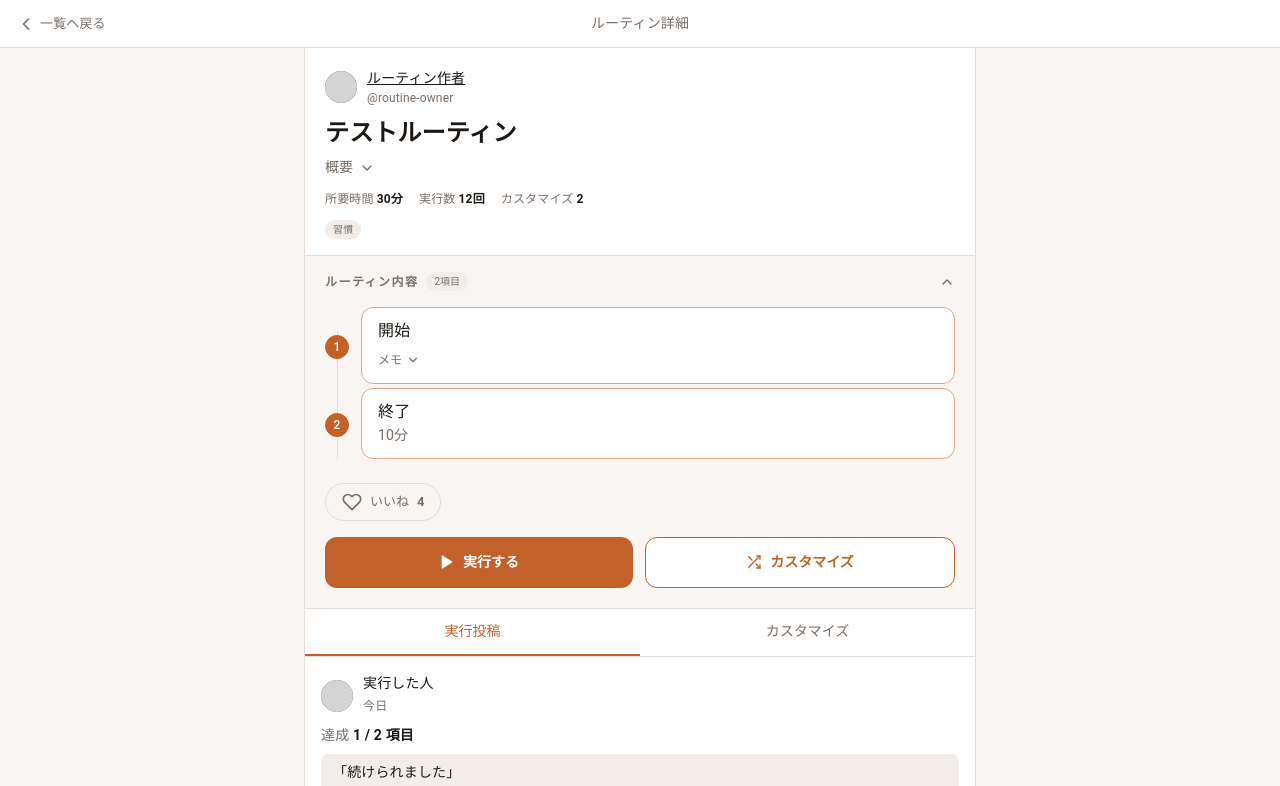
Scenario: RoutineDetailPage › 概要・ステップの開閉を提供する
Expected: the heading "テストルーティン" is shown, [325,119,517,147]
Expected: the text "ルーティンの詳しい説明です。" is not shown
Click the button "概要" at {"x": 350, "y": 168}, box [325,157,375,178]
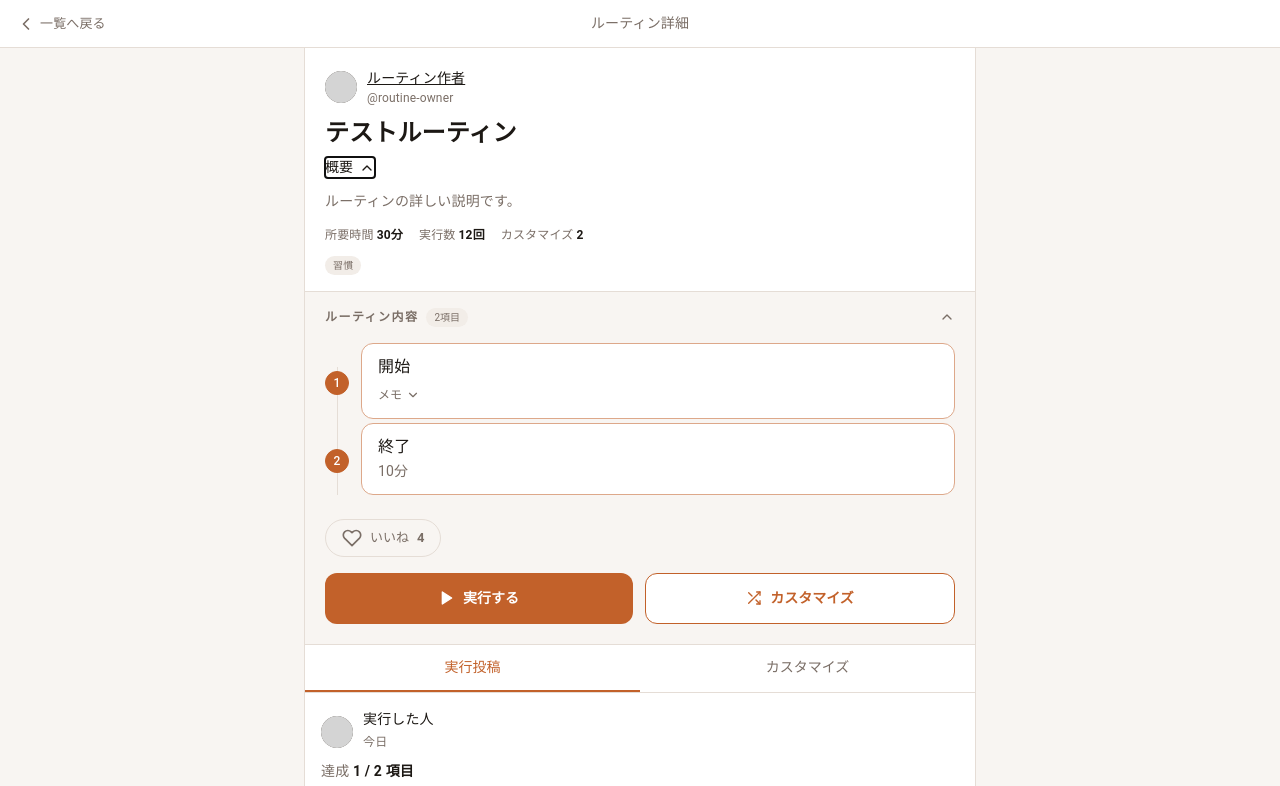
Now the text "ルーティンの詳しい説明です。" is shown, box [325,193,521,209]
Click the button "ルーティン内容 2項目" at {"x": 372, "y": 317}, box [305,292,975,343]
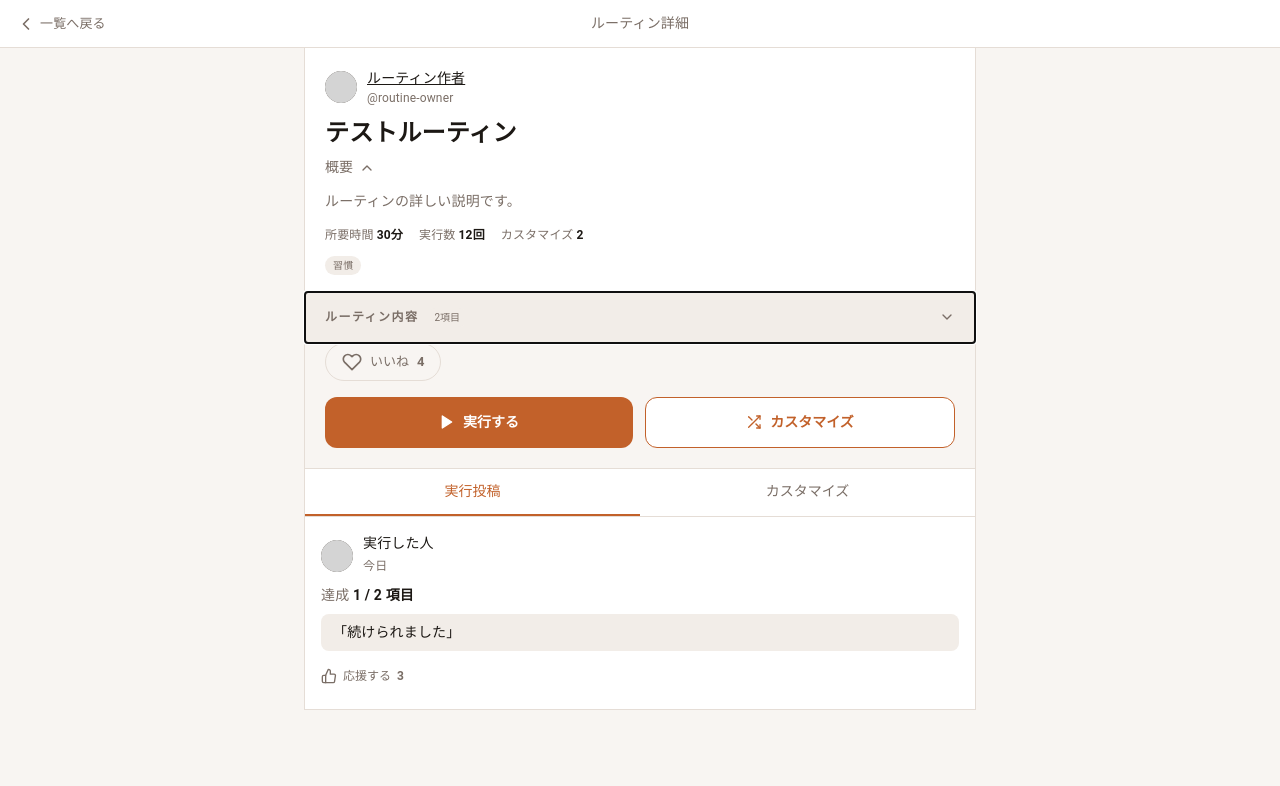
Now the text "開始" is gone
Click the button "ルーティン内容 2項目" at {"x": 372, "y": 317}, box [305,292,975,343]
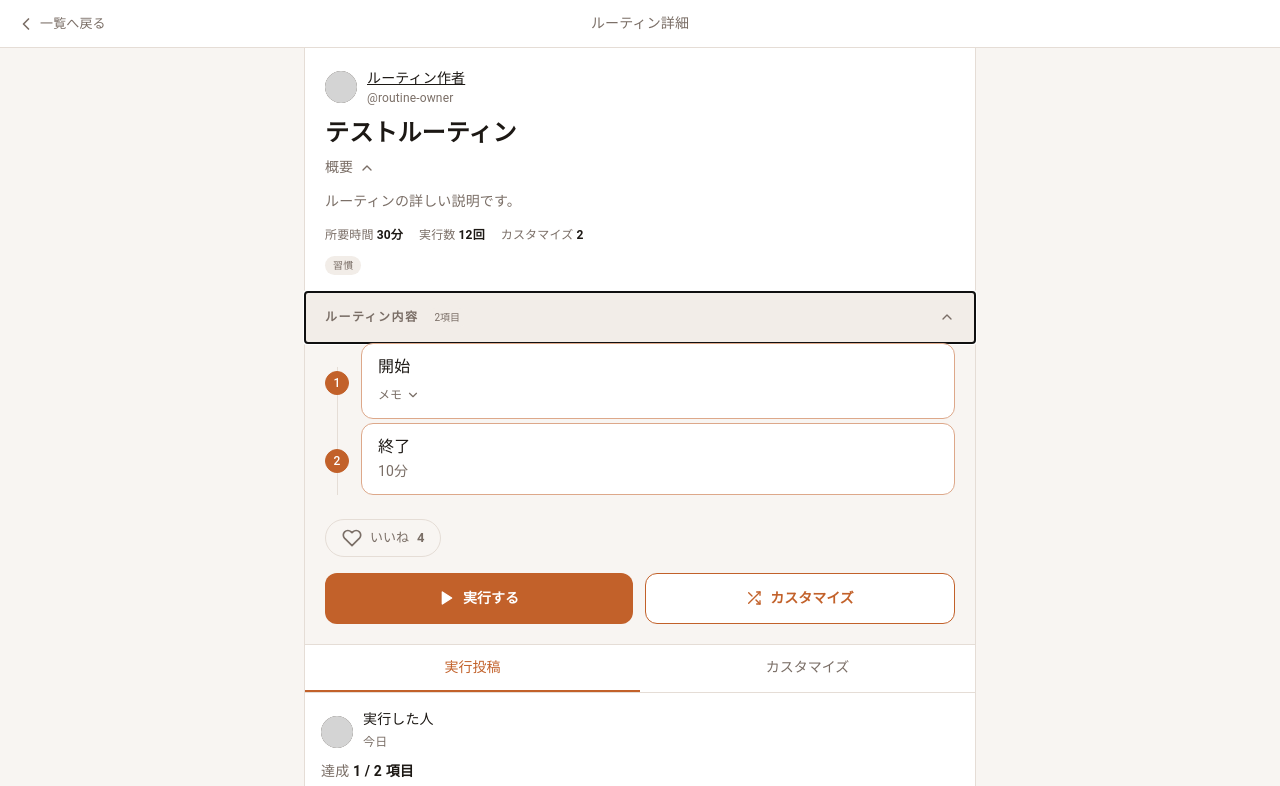
Expected: the text "開始前に深呼吸します。" is not shown
Now the text "開始" is shown, box [378,357,410,376]
Click the button "メモ" at {"x": 399, "y": 395}, box [378,386,420,404]
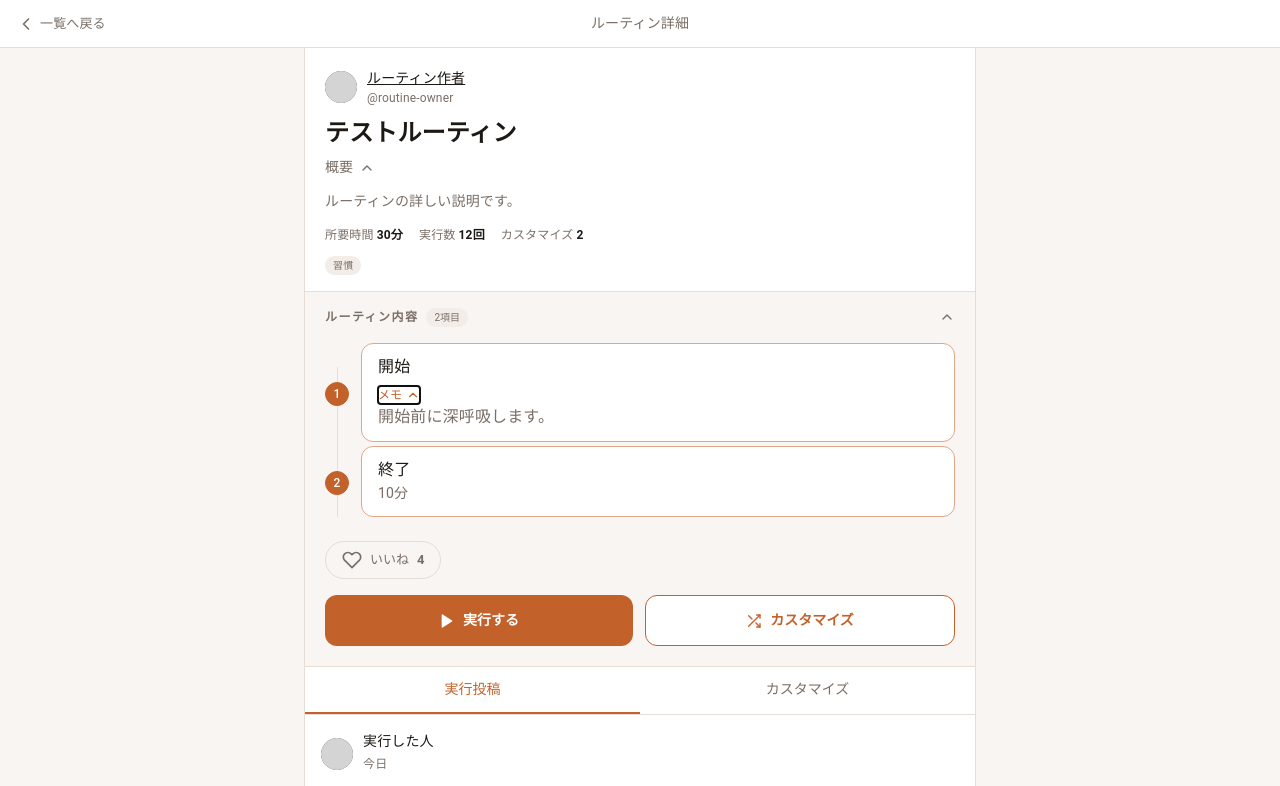
Now the text "開始前に深呼吸します。" is shown, box [378,407,554,426]
